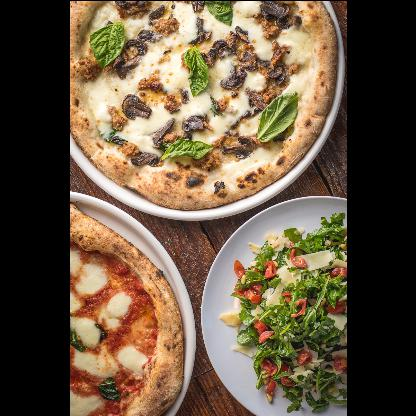pizza: (69, 1, 338, 210), (69, 203, 183, 415)
salad: (218, 211, 346, 413)
